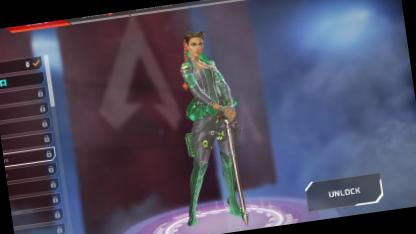Target: (166, 24, 235, 168)
